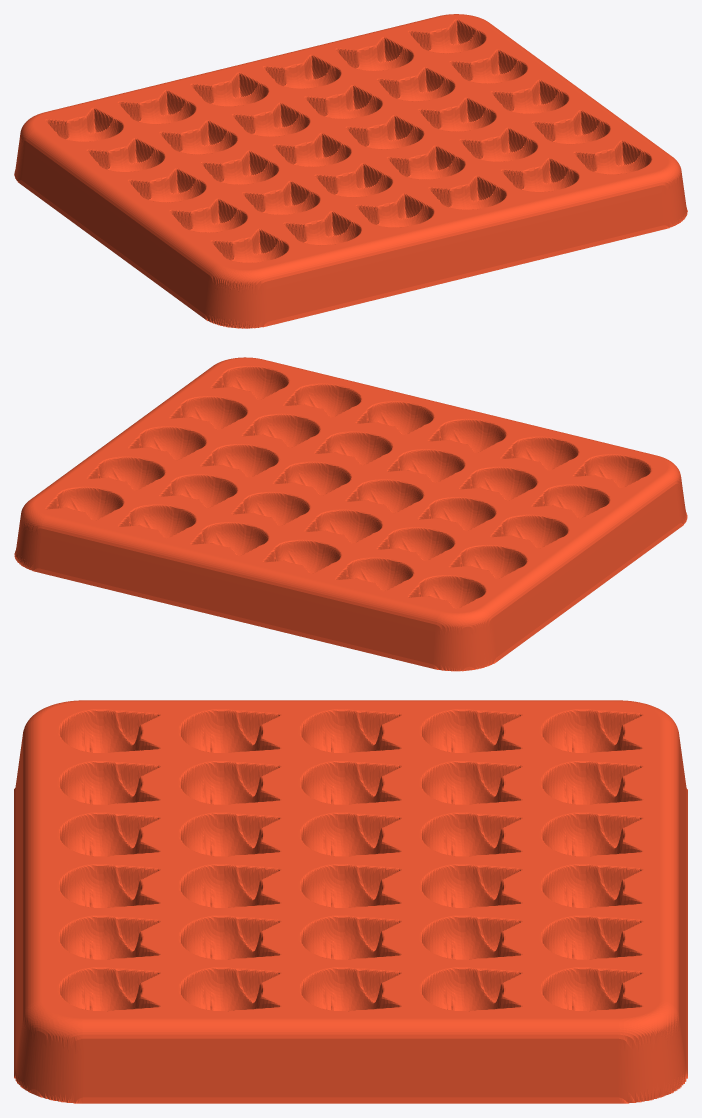
The model's file is mold.glb.
3 views of the same model, one above another, from view 1: azimuth 30°, elevation 25°; view 2: azimuth 150°, elevation 25°; view 3: azimuth 270°, elevation 25° (orthographic). The views are drawn at different scales.
Parts seen in each view (by area): view 1: geometry_0; view 2: geometry_0; view 3: geometry_0.
Part boxes in pixels (box(x1,y1,x2,y2)): geometry_0: box(14, 14, 687, 328); geometry_0: box(14, 357, 687, 671); geometry_0: box(14, 700, 687, 1103).
Bounding box in the file's own units: 0.104 × 0.0105 × 0.0872.
